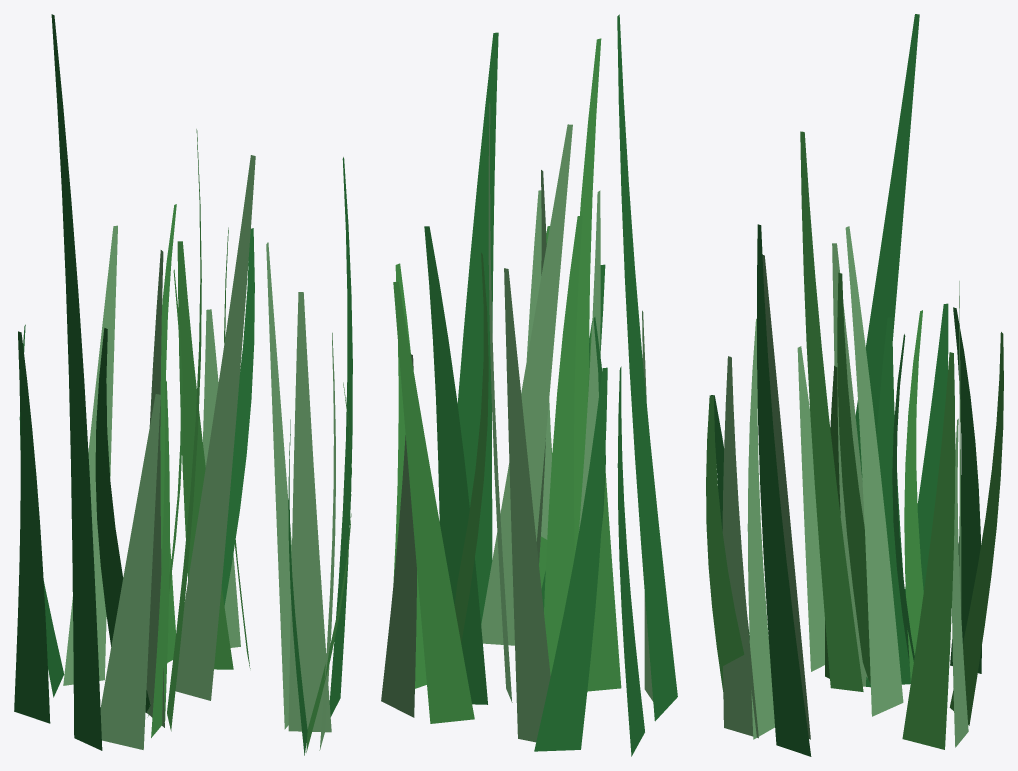
The model's file is seagrass.glb.
The picture shows the model from 3 angles, left to right: view 1: azimuth 30°, elevation 25°; view 2: azimuth 150°, elevation 25°; view 3: azimuth 270°, elevation 25°; orthographic projection. The views are drawn at different scales.
Parts seen in each view (by area): view 1: seagrass; view 2: seagrass; view 3: seagrass.
Boxes of the visible parts, x1,y1,x2,y2 form: seagrass: (14, 14, 352, 755); seagrass: (381, 14, 677, 756); seagrass: (706, 14, 1003, 756).
Bounding box in the file's own units: 0.5572 × 1.46 × 0.6134.
